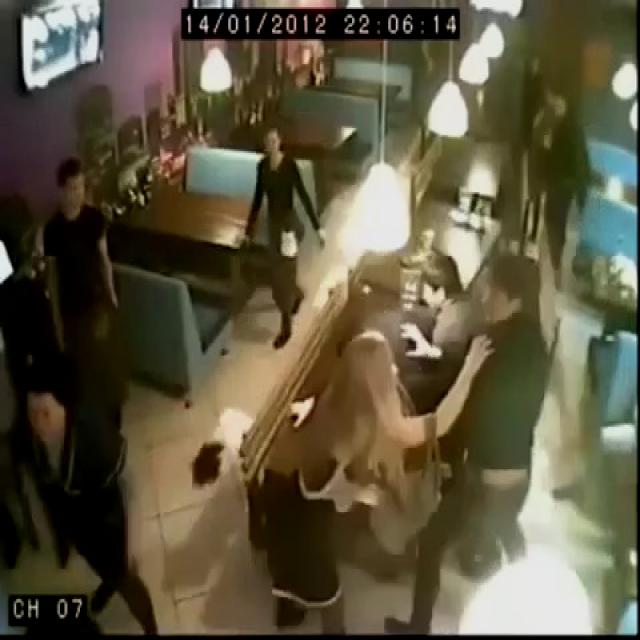fight: (372, 176, 562, 439)
